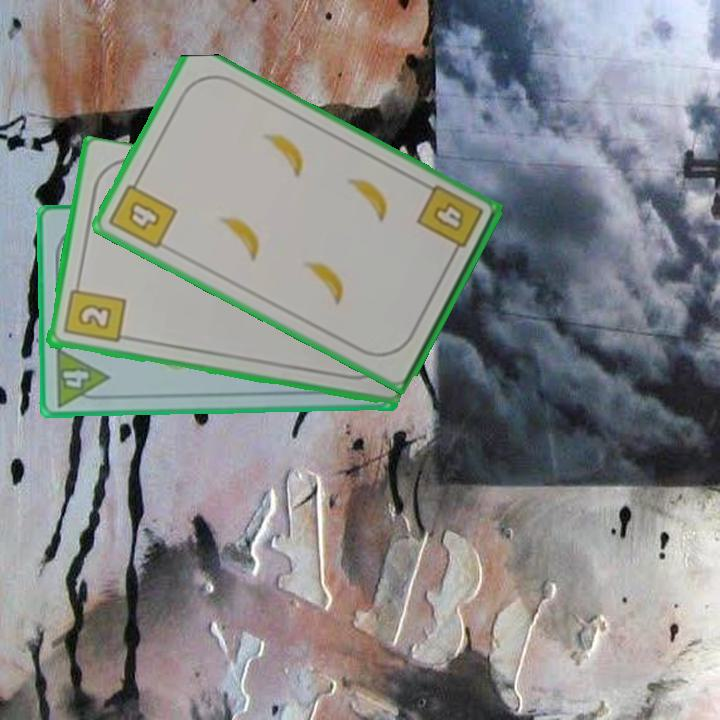2b: (60, 277, 128, 346)
4b: (105, 172, 180, 252), (413, 181, 486, 262)
4p: (52, 344, 112, 409)
